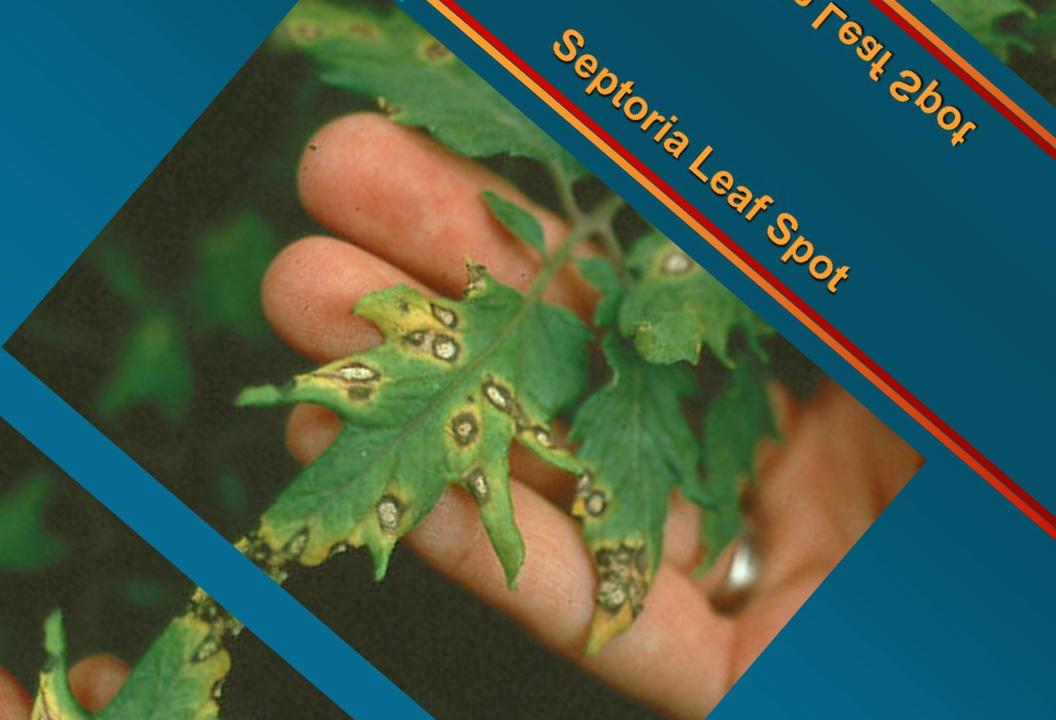Tomato Septoria leaf spot: (160, 186, 648, 682), (452, 321, 797, 675), (263, 0, 613, 286)
